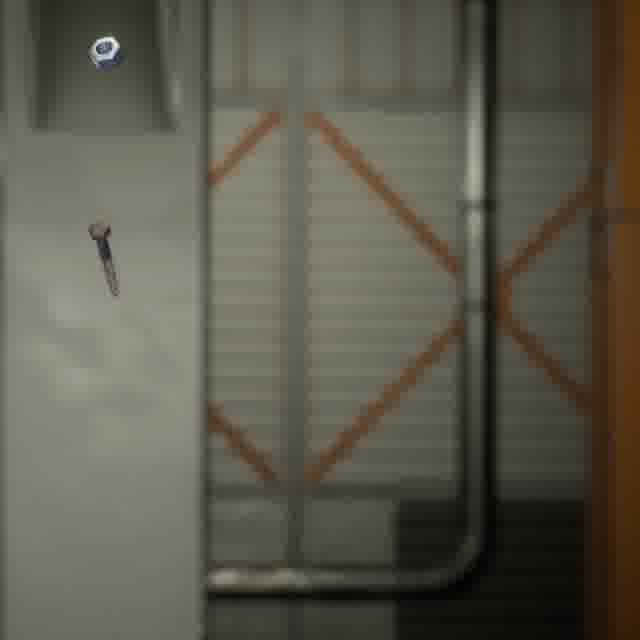bolt: (83, 216, 123, 302)
nut: (84, 33, 128, 73)
